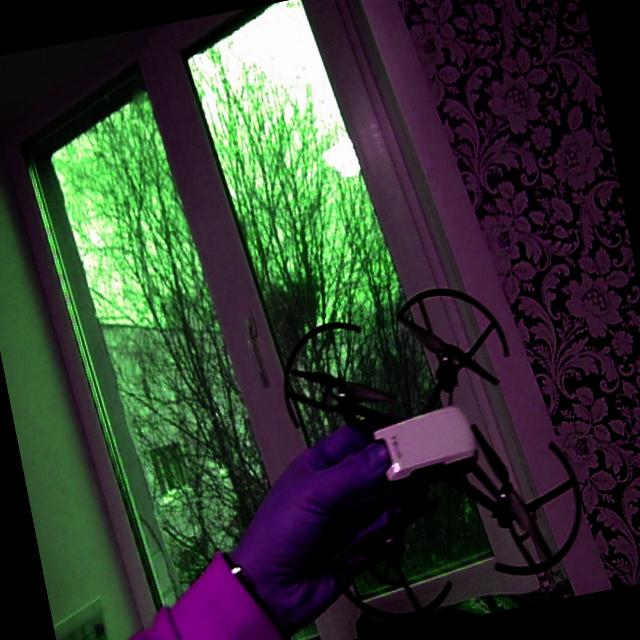drone: (263, 260, 608, 640)
